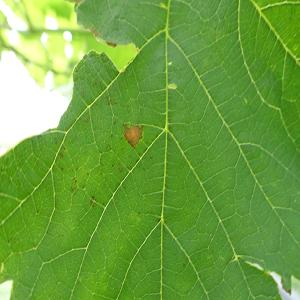Folha: (0, 0, 300, 299)
Fungo: (51, 70, 160, 204), (123, 122, 143, 148), (103, 90, 122, 111), (58, 144, 72, 169), (86, 193, 101, 207)
